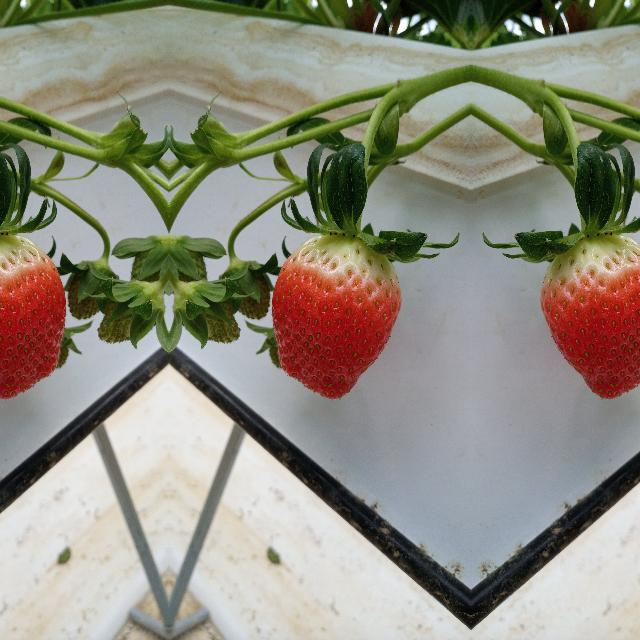Health_100: (269, 231, 401, 399), (540, 231, 640, 399), (0, 231, 67, 399)
